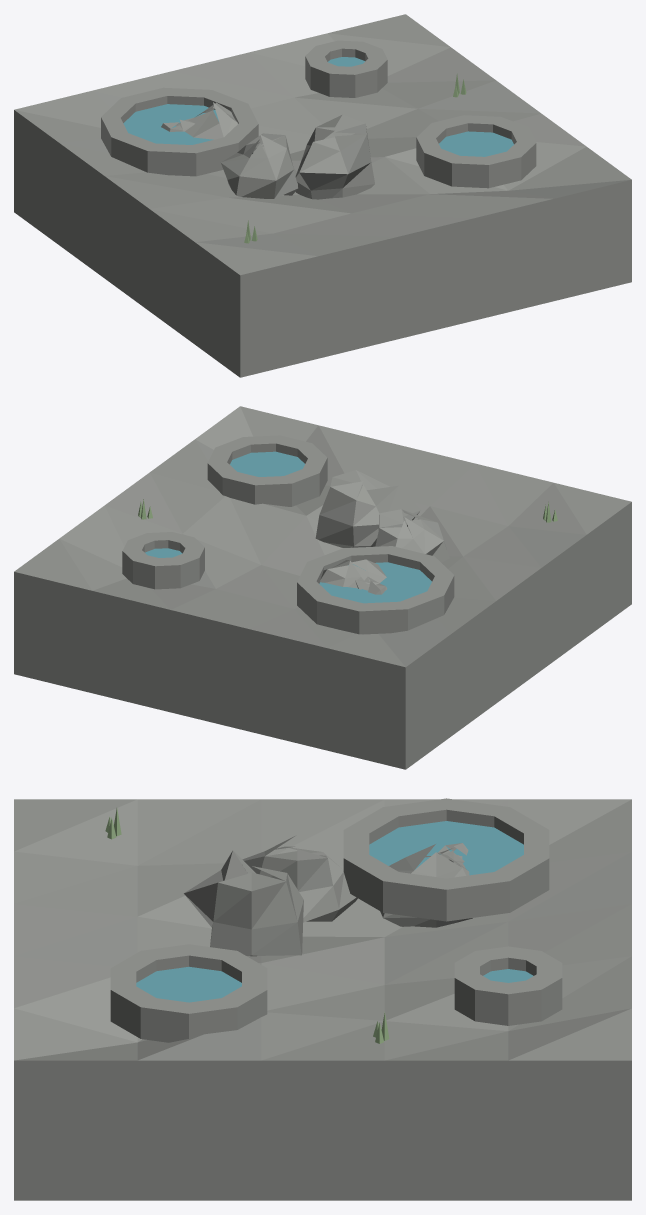
Rendered from lighthouse-and-rocky-coast-tide-pool-shelf-module-90e35b9a__36606.glb.
3 renders of one model, top to bottom at view 1: azimuth 30°, elevation 25°; view 2: azimuth 150°, elevation 25°; view 3: azimuth 270°, elevation 25°, orthographic. The views are drawn at different scales.
Parts seen in each view (by area): view 1: tide-pool-shelf-module; view 2: tide-pool-shelf-module; view 3: tide-pool-shelf-module.
Boxes of the visible parts, x1,y1,x2,y2 form: tide-pool-shelf-module: [14, 14, 631, 377]; tide-pool-shelf-module: [14, 406, 631, 769]; tide-pool-shelf-module: [14, 798, 631, 1200].
Size of the model in its own units: 6 by 2.08 by 6.
